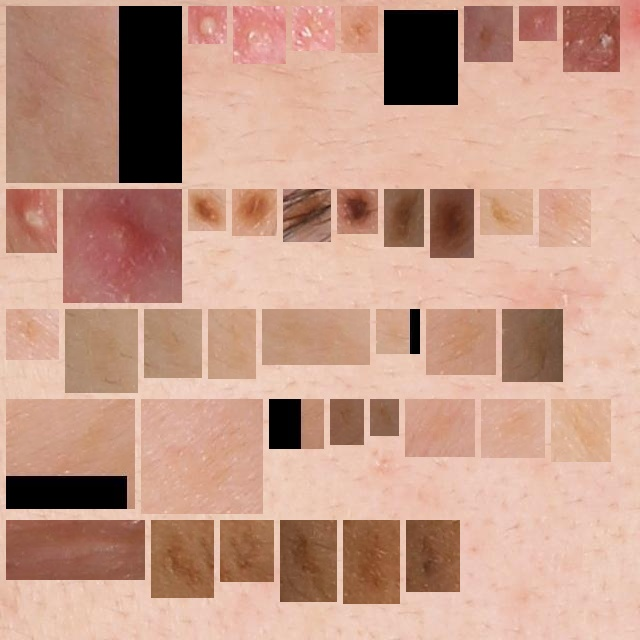hypertrophic_scar: (14, 528, 137, 572)
melasma: (14, 14, 174, 175), (14, 407, 127, 501), (149, 407, 255, 506), (392, 14, 450, 97), (73, 317, 130, 385), (270, 317, 362, 357), (159, 528, 206, 590), (351, 528, 392, 596), (288, 528, 329, 594), (434, 317, 488, 367), (510, 317, 555, 374), (413, 407, 467, 449), (152, 317, 194, 370), (414, 528, 452, 584), (559, 407, 603, 454), (489, 407, 537, 450), (228, 528, 266, 574), (216, 317, 248, 371), (547, 197, 583, 239), (277, 407, 316, 441), (472, 14, 505, 54), (14, 317, 51, 352), (488, 197, 525, 227), (384, 317, 412, 346), (338, 407, 356, 437), (378, 407, 391, 428)
nevus: (438, 197, 466, 250), (291, 197, 323, 234), (392, 197, 416, 239), (240, 197, 269, 228), (345, 197, 370, 226), (349, 14, 370, 45), (196, 197, 218, 223)
pustule: (71, 197, 174, 295), (571, 14, 612, 64), (14, 197, 49, 245), (241, 14, 278, 56), (300, 14, 327, 43), (196, 14, 219, 36), (527, 14, 549, 33)
